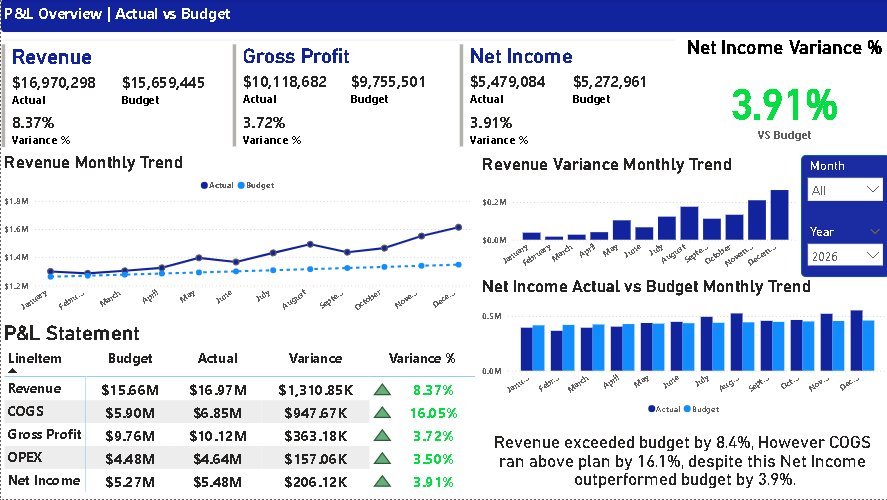

This screenshot's page, from the dashboard's own definition file:
{"tool":"powerbi","page":{"name":"Actual VS Budget","canvas":[1280,720],"ordinal":0},"visuals":[{"type":"actionButton","box":[0,0,100,40],"z":0},{"type":"multiRowCard","title":"Revenue","fields":{"Values":["Dim_PL.LineItem","Dim_Scenario.Actual KPI","Dim_Scenario.Budget KPI","Dim_PL.P&L Variance %"]},"box":[0,48,336,176],"z":1000},{"type":"card","title":"Net Income Variance %","fields":{"Values":["Dim_PL.P&L Variance %"]},"box":[976,48,304,176],"z":2000},{"type":"multiRowCard","title":"Revenue","fields":{"Values":["Dim_PL.LineItem","Dim_Scenario.Actual KPI","Dim_Scenario.Budget KPI","Dim_PL.P&L Variance %"]},"box":[336,48,320,176],"z":3000},{"type":"multiRowCard","title":"Revenue","fields":{"Values":["Dim_PL.LineItem","Dim_Scenario.Actual KPI","Dim_Scenario.Budget KPI","Dim_PL.P&L Variance %"]},"box":[656,48,320,176],"z":4000},{"type":"lineChart","title":"Revenue Monthly Trend","fields":{"Series":["Dim_Scenario.Scenario"],"Y":["Fact_Financial.Revenue"],"Category":["Dim_Date.Date.Variation.Date Hierarchy.Month"]},"box":[0,221.7,685.4,241.9],"z":5000},{"type":"clusteredColumnChart","title":"Revenue Variance Monthly Trend","fields":{"Category":["Dim_Date.Date.Variation.Date Hierarchy.Month"],"Y":["Dim_PL.P&L Variance"],"Series":["Dim_PL.LineItem"]},"box":[688,224,464,176],"z":6000},{"type":"clusteredColumnChart","title":"Net Income Actual vs Budget Monthly Trend","fields":{"Category":["Dim_Date.Date.Variation.Date Hierarchy.Month"],"Series":["Dim_Scenario.Scenario"],"Y":["Fact_Financial.Net Income"]},"box":[688,400,592,208],"z":7000},{"type":"pivotTable","title":"P&L Statement ","fields":{"Rows":["Dim_PL.LineItem"],"Values":["Dim_Scenario.Budget KPI","Dim_Scenario.Actual KPI","Dim_PL.P&L Variance","Dim_PL.P&L Variance %"]},"box":[0,464,688,256],"z":8000},{"type":"shape","box":[0,0,1280,48],"z":9000},{"type":"shape","box":[1152,224,128,176],"z":10000},{"type":"slicer","fields":{"Values":["Dim_Date.Year"]},"box":[1152,320,128,64],"z":11000},{"type":"slicer","fields":{"Values":["Dim_Date.Date.Variation.Date Hierarchy.Month"]},"box":[1152,224,128,80],"z":12000},{"type":"textbox","box":[0,0,352,48],"z":13000},{"type":"card","fields":{"Values":["Fact_Financial.Performance Summary"]},"box":[688,608,592,112],"z":14000},{"type":"advancedSlicerVisual","fields":{"Values":["Dim_Scenario.Scenario"]},"box":[896,0,384,48],"z":14001}]}

Visuals, with their boxes in screenshot pixels (x1, y1, x2, y2), scaled from the page's 1280x720 canvas onto the 887x500 screenshot:
actionButton: 0/0/69/28
"Revenue" multiRowCard: 0/33/233/156
"Net Income Variance %" card: 676/33/886/156
"Revenue" multiRowCard: 233/33/455/156
"Revenue" multiRowCard: 455/33/676/156
"Revenue Monthly Trend" lineChart: 0/154/475/322
"Revenue Variance Monthly Trend" clusteredColumnChart: 477/156/798/278
"Net Income Actual vs Budget Monthly Trend" clusteredColumnChart: 477/278/886/422
"P&L Statement " pivotTable: 0/322/477/499
shape: 0/0/886/33
shape: 798/156/886/278
slicer - Dim_Date.Year: 798/222/886/267
slicer - Dim_Date.Date.Variation.Date Hierarchy.Month: 798/156/886/211
textbox: 0/0/244/33
card - Fact_Financial.Performance Summary: 477/422/886/499
advancedSlicerVisual - Dim_Scenario.Scenario: 621/0/886/33
